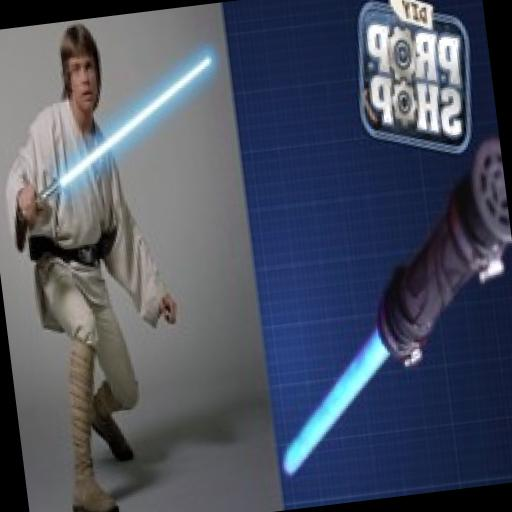human: (0, 17, 204, 512)
lightsaber: (243, 138, 512, 483), (0, 47, 233, 223)
